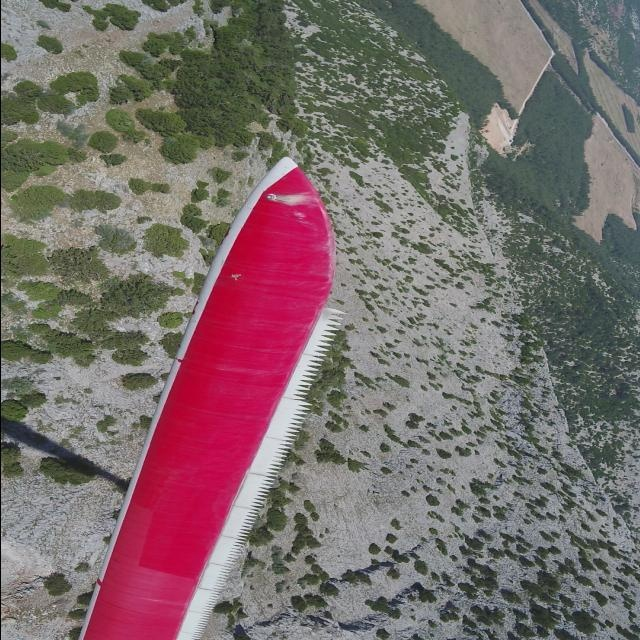Coating_defects: (228, 264, 244, 286)
